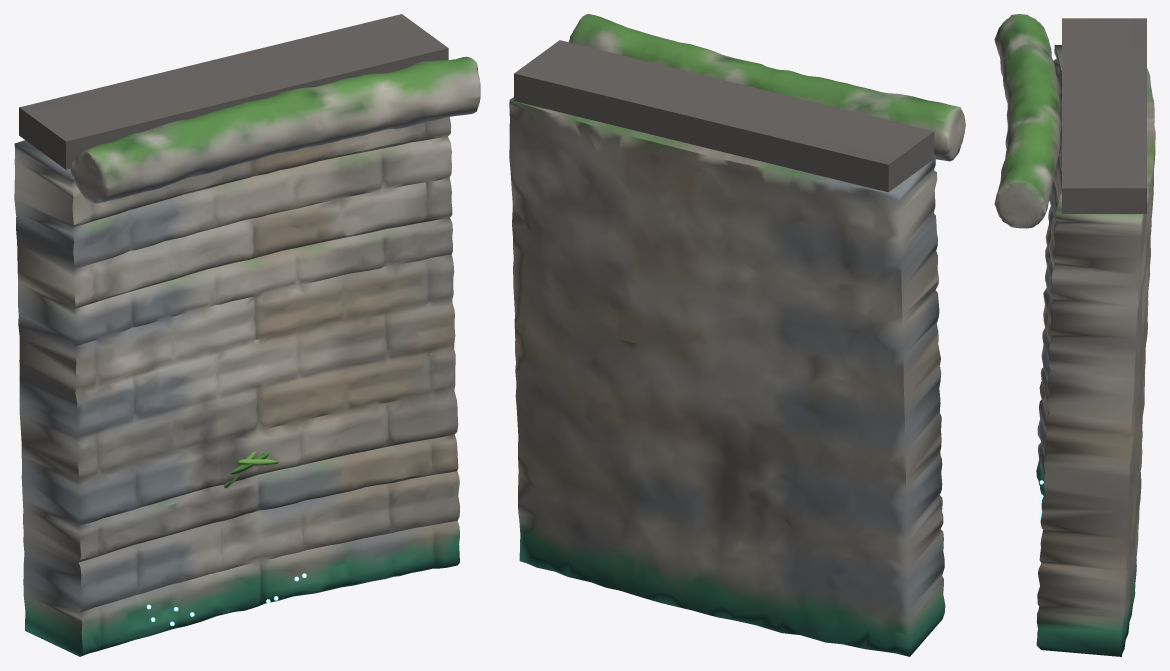
Rendered from grotto_basin_wall_b.glb.
3 views of the same model, side by side, from view 1: azimuth 30°, elevation 25°; view 2: azimuth 150°, elevation 25°; view 3: azimuth 270°, elevation 25° (orthographic). The views are drawn at different scales.
Parts seen in each view (by area): view 1: grotto_basin_wall_b; view 2: grotto_basin_wall_b; view 3: grotto_basin_wall_b.
Part boxes in pixels (x1,y1,x2,y2): grotto_basin_wall_b: [14, 14, 480, 656]; grotto_basin_wall_b: [509, 14, 965, 656]; grotto_basin_wall_b: [994, 14, 1155, 656].
Size of the model in its own units: 29.74 by 36.92 by 11.38.
